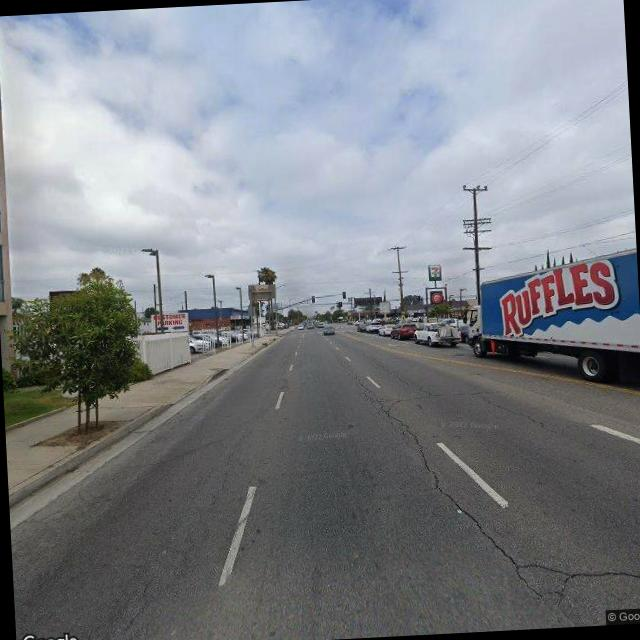crack: (360, 378, 561, 610), (512, 552, 640, 599), (471, 389, 557, 436), (112, 573, 158, 640), (205, 464, 232, 512)
